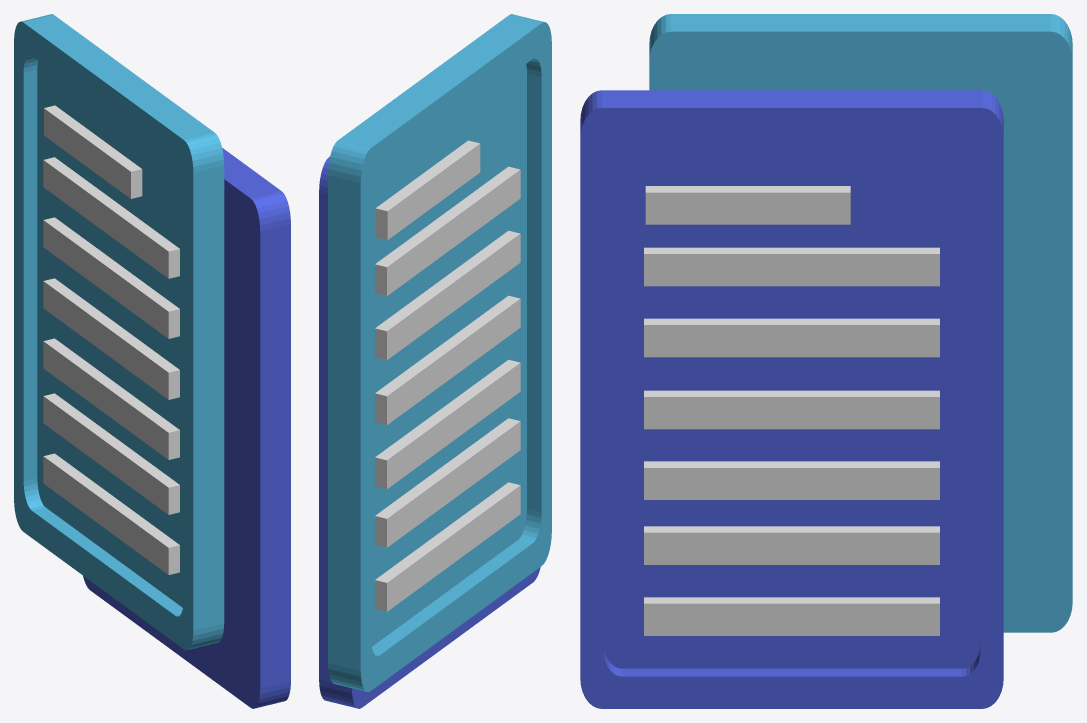
The model's file is icon_document.glb.
The picture shows the model from 3 angles, left to right: view 1: azimuth 30°, elevation 25°; view 2: azimuth 150°, elevation 25°; view 3: azimuth 270°, elevation 25°; orthographic projection. The views are drawn at different scales.
Visible parts, largest first — view 1: Cube.014, Cube.007; view 2: Cube.014, Cube.007; view 3: Cube.007, Cube.014.
Boxes of the visible parts, x1,y1,x2,y2 form: Cube.014: (14, 14, 224, 650); Cube.007: (83, 148, 290, 708); Cube.014: (328, 14, 551, 692); Cube.007: (319, 156, 540, 708); Cube.007: (580, 90, 1003, 708); Cube.014: (649, 14, 1072, 632).
Bounding box in the file's own units: 0.0659 × 0.5116 × 0.3482.
